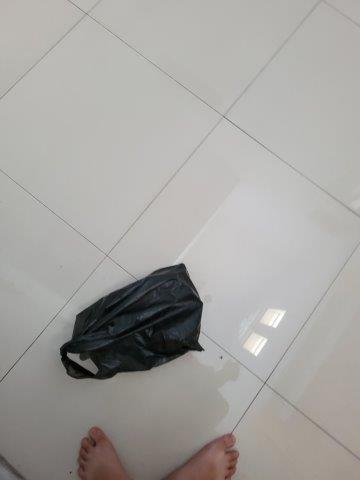plastik: (61, 263, 204, 380)
